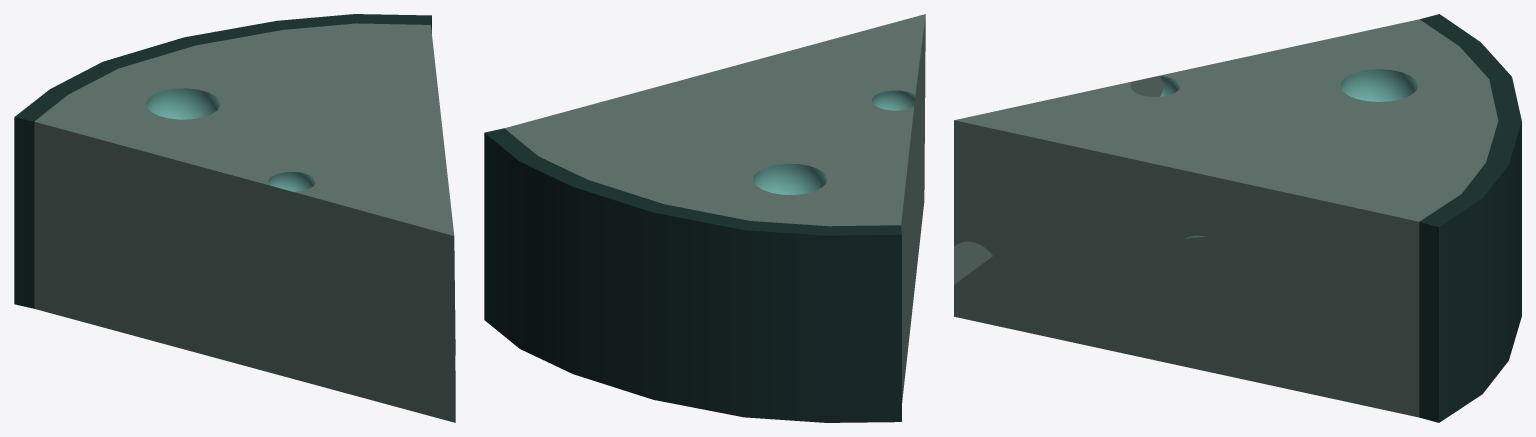
Rendered from Rotten_cheese.fbx.
3 renders of one model, left to right at view 1: azimuth 30°, elevation 25°; view 2: azimuth 150°, elevation 25°; view 3: azimuth 270°, elevation 25°, orthographic. The views are drawn at different scales.
Parts seen in each view (by area): view 1: pCube8; view 2: pCube8; view 3: pCube8.
Boxes of the visible parts, x1=… form: pCube8: x1=14, y1=14, x2=455, y2=422; pCube8: x1=484, y1=14, x2=925, y2=422; pCube8: x1=954, y1=14, x2=1521, y2=422.
Size of the model in its own units: 80.99 by 34.69 by 91.15.
